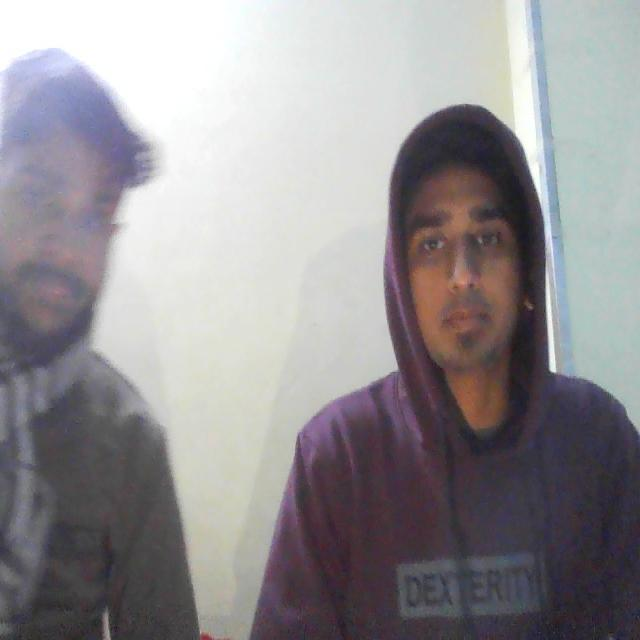real: (0, 48, 166, 363), (391, 98, 545, 390)
